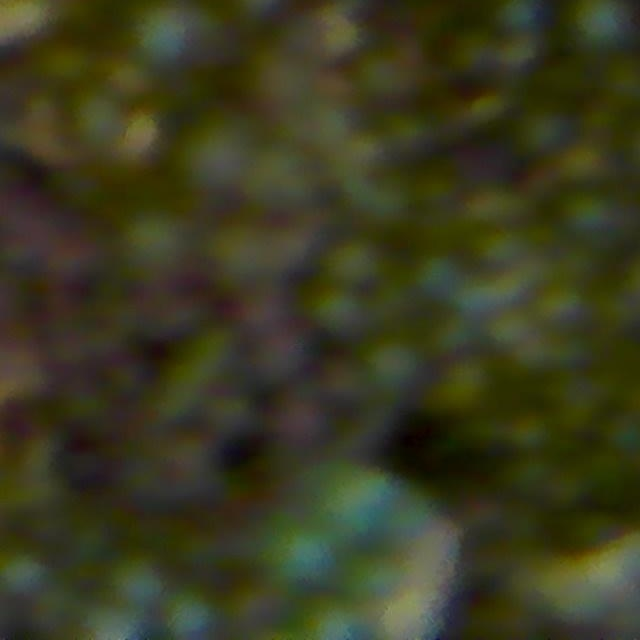SeaGrape: (313, 460, 407, 543), (177, 112, 259, 198), (208, 219, 295, 295), (117, 206, 196, 286), (131, 0, 216, 73), (243, 140, 320, 219), (264, 521, 336, 590), (561, 188, 638, 250), (246, 49, 315, 116), (568, 0, 636, 54), (363, 338, 424, 397), (108, 554, 166, 612), (70, 91, 127, 150), (325, 237, 385, 291), (514, 107, 572, 158), (313, 286, 368, 339), (161, 590, 217, 639), (38, 41, 92, 90), (83, 601, 146, 639), (492, 0, 546, 40), (602, 56, 640, 111)
